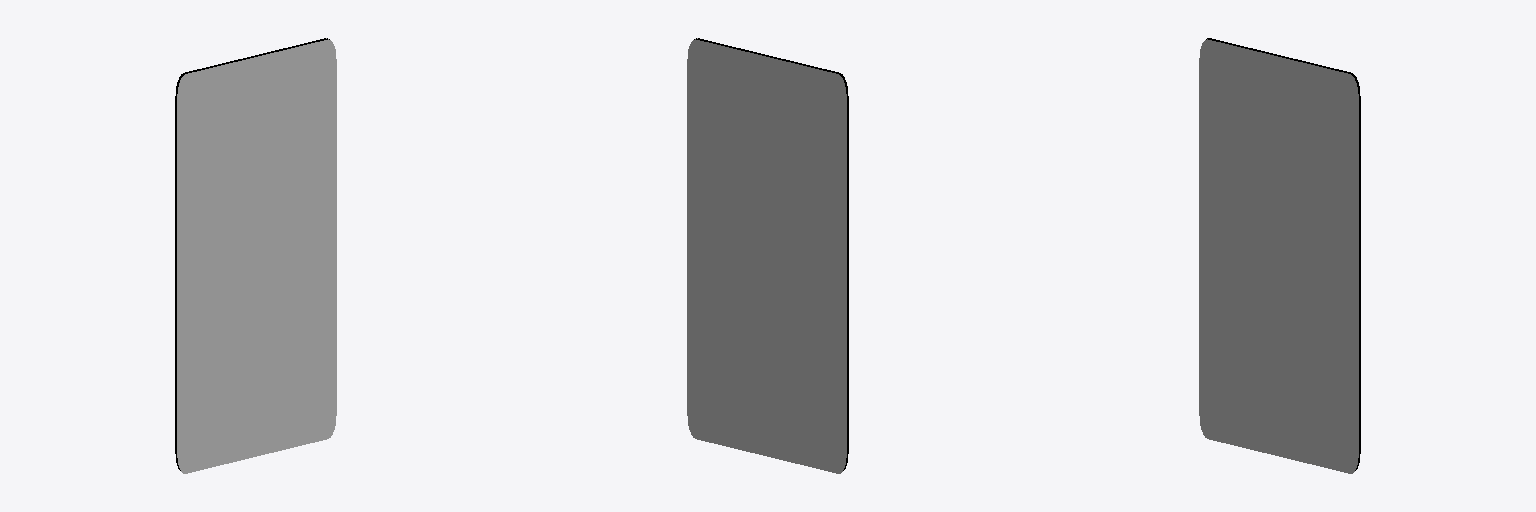
File: EmptyCard.obj
3 views of the same model, side by side, from view 1: azimuth 30°, elevation 25°; view 2: azimuth 150°, elevation 25°; view 3: azimuth 330°, elevation 25° (orthographic).
Parts seen in each view (by area): view 1: Cube; view 2: Cube; view 3: Cube.
Boxes of the visible parts, <box> form: Cube: <box>175,38,336,473</box>; Cube: <box>687,38,848,473</box>; Cube: <box>1199,38,1360,473</box>.
Size of the model in its own units: 1 by 2.4 by 0.02.